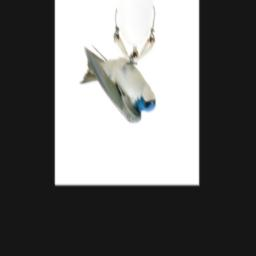Swallow: (79, 42, 156, 124)
